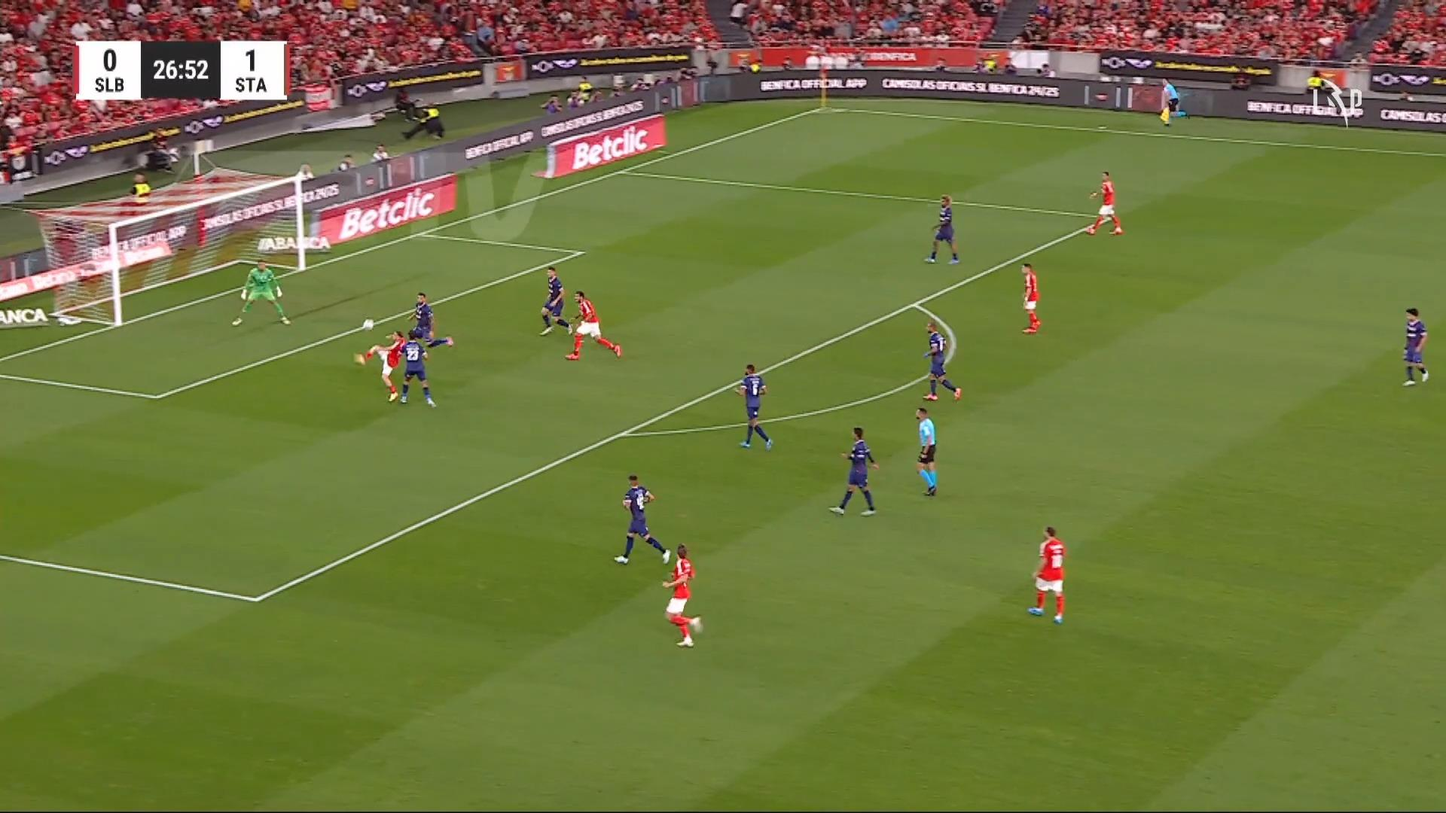ball: (362, 318, 373, 330)
goalkeeper: (230, 259, 291, 326)
player: (613, 473, 671, 565), (828, 426, 880, 516), (661, 543, 703, 647), (565, 290, 621, 361), (1027, 525, 1066, 623), (353, 330, 404, 402), (734, 364, 773, 450), (921, 321, 962, 400), (397, 329, 436, 407), (407, 291, 454, 349), (923, 193, 960, 264), (1085, 170, 1124, 235), (538, 266, 574, 336), (1401, 306, 1429, 385), (1020, 261, 1041, 333)
referee: (914, 406, 938, 496), (1158, 78, 1179, 126)
